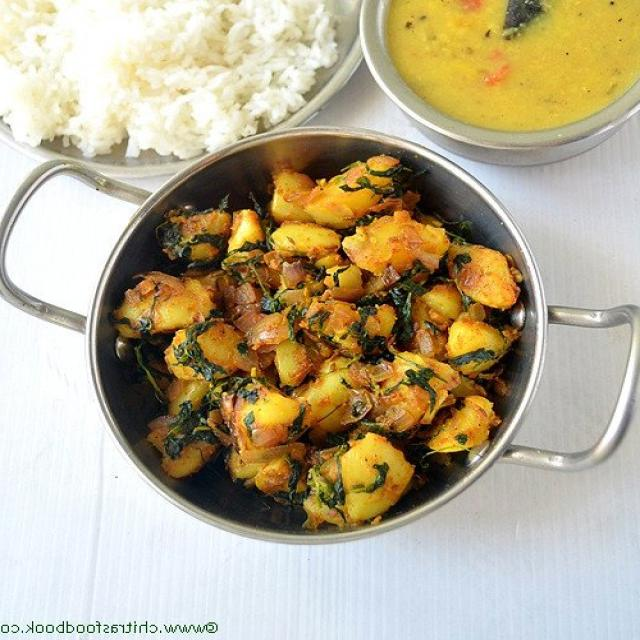Aloo Methi: (110, 148, 524, 518)
